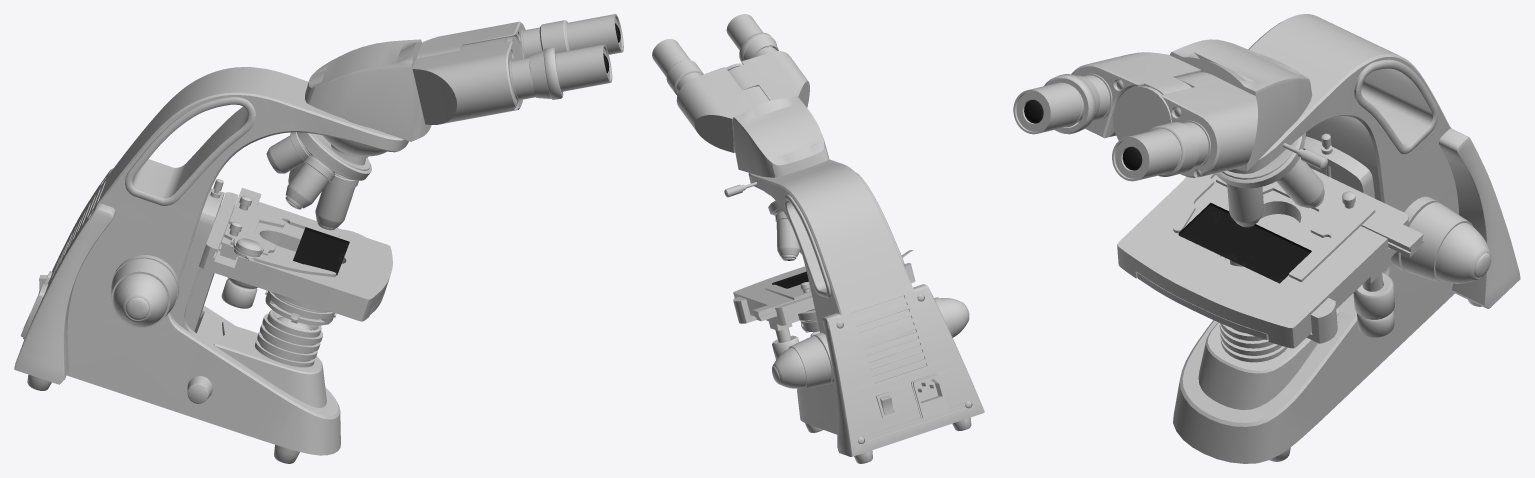
The model's file is scope.gltf.
The picture shows the model from 3 angles, left to right: view 1: azimuth 30°, elevation 25°; view 2: azimuth 150°, elevation 25°; view 3: azimuth 270°, elevation 25°; orthographic projection. The views are drawn at different scales.
Visible parts, largest first — view 1: model_2, model_2.001, model_2.005, eye_glass, model_2.004; view 2: model_2, knob, model_2.001, model_2.004; view 3: model_2, knob, eye_glass, model_2.001, Circle, model_2.005, model_2.004, lenses.
Part boxes in pixels (bbox=[...]): model_2: bbox=[14, 14, 623, 463]; model_2.001: bbox=[266, 132, 371, 230]; model_2.005: bbox=[256, 310, 322, 363]; eye_glass: bbox=[293, 227, 349, 275]; model_2.004: bbox=[529, 47, 563, 99]; model_2: bbox=[652, 14, 984, 463]; knob: bbox=[772, 332, 834, 389]; model_2.001: bbox=[768, 200, 801, 260]; model_2.004: bbox=[739, 32, 778, 62]; model_2: bbox=[1013, 14, 1520, 463]; knob: bbox=[1391, 196, 1491, 283]; eye_glass: bbox=[1178, 202, 1311, 283]; model_2.001: bbox=[1215, 132, 1324, 227]; Circle: bbox=[1113, 86, 1171, 140]; model_2.005: bbox=[1219, 323, 1284, 358]; model_2.004: bbox=[1044, 74, 1100, 134]; lenses: bbox=[1024, 99, 1142, 170].
Size of the model in its own units: 10.99 by 8.48 by 8.09.
